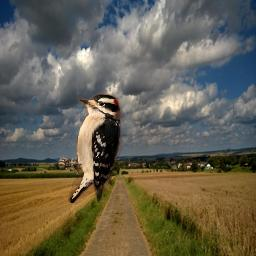Woodpecker: (57, 91, 122, 203)
